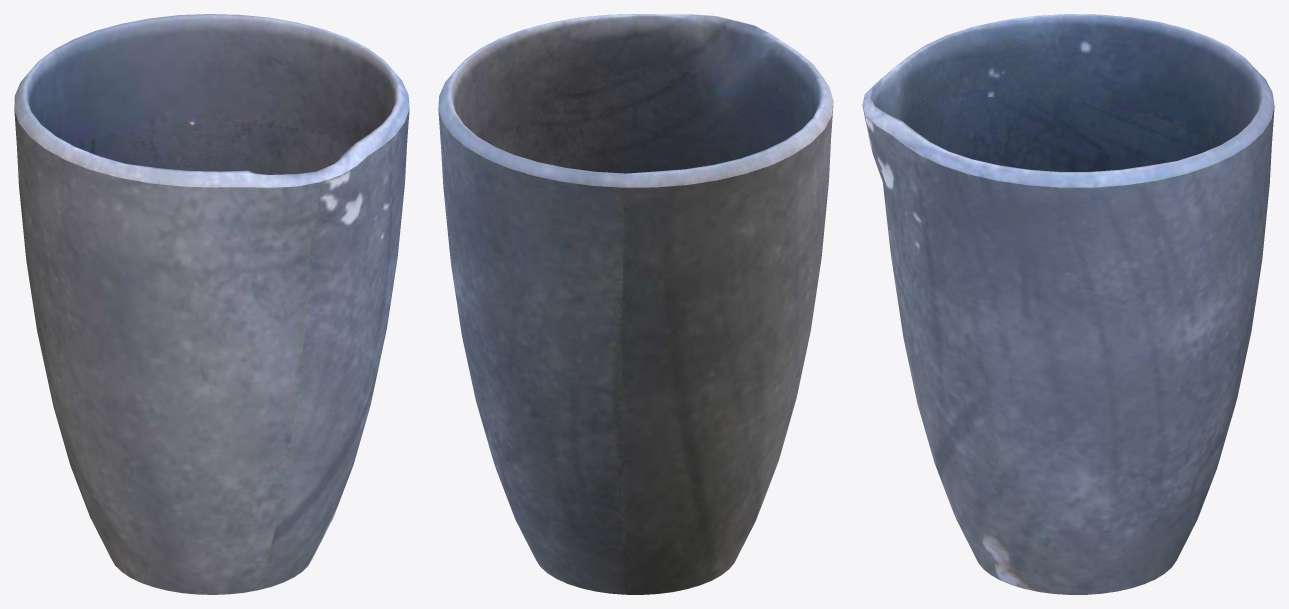
The model's file is crucible.glb.
3 views of the same model, side by side, from view 1: azimuth 30°, elevation 25°; view 2: azimuth 150°, elevation 25°; view 3: azimuth 270°, elevation 25° (orthographic).
Parts seen in each view (by area): view 1: crucible; view 2: crucible; view 3: crucible.
Boxes of the visible parts, left/top/right/bottom form: crucible: left=14, top=14, right=409, bottom=594; crucible: left=438, top=14, right=833, bottom=594; crucible: left=862, top=14, right=1274, bottom=594.
Bounding box in the file's own units: 0.0337 × 0.0431 × 0.0352.
Materials: 1 (1 with a texture image).
